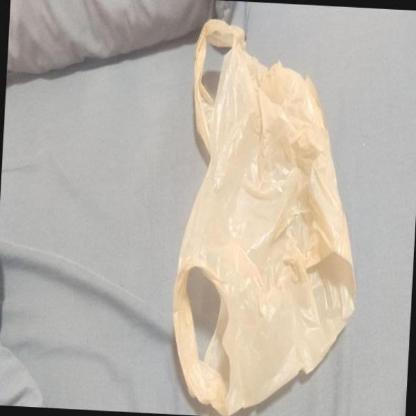Plastic Bag: (172, 16, 358, 414)
